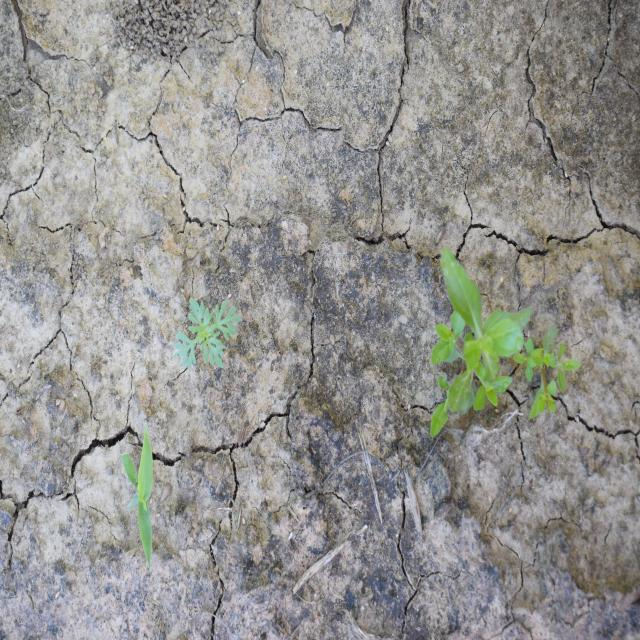Eclipta: (428, 243, 584, 440)
Ragweed: (172, 294, 242, 372)
